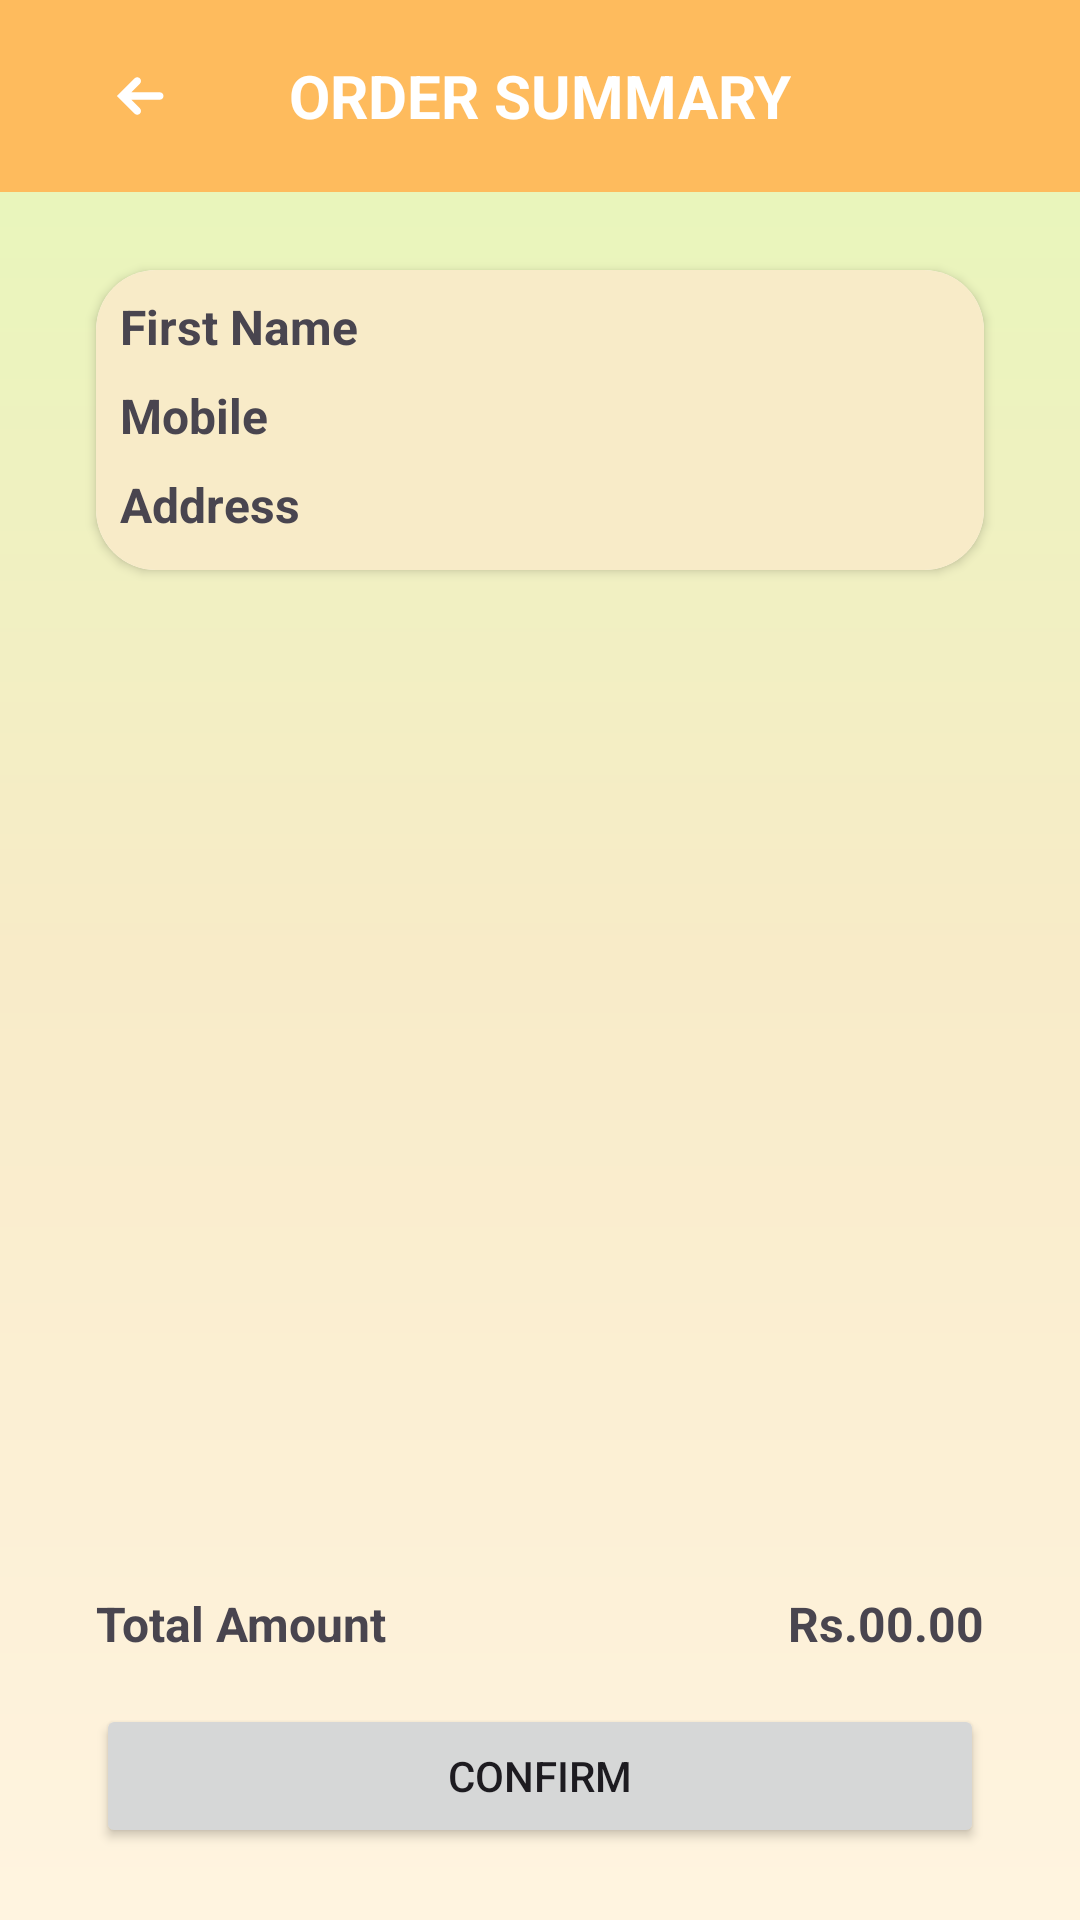

Where to tap for icons on this 1080px x 1920px app screen, as (x,y):
arrow left: (140,96)
